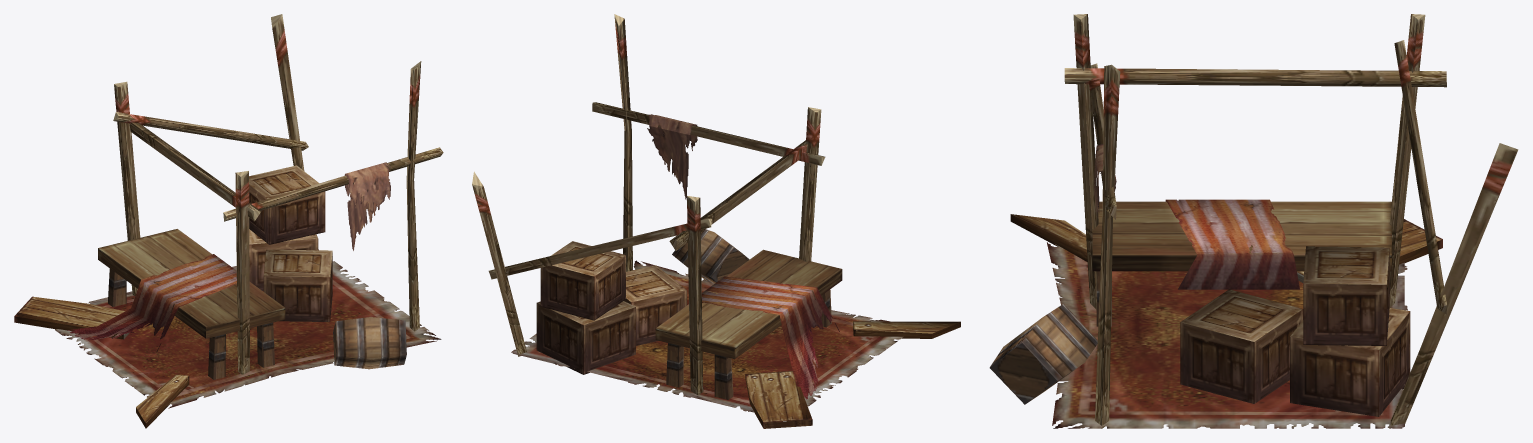
The model's file is Gobi_Stall02.FBX.
The picture shows the model from 3 angles, left to right: view 1: azimuth 30°, elevation 25°; view 2: azimuth 150°, elevation 25°; view 3: azimuth 270°, elevation 25°; orthographic projection. The views are drawn at different scales.
Parts seen in each view (by area): view 1: Gobi_Stall02; view 2: Gobi_Stall02; view 3: Gobi_Stall02.
Boxes of the visible parts, x1,y1,x2,y2 form: Gobi_Stall02: (14,14,443,428); Gobi_Stall02: (472,14,960,428); Gobi_Stall02: (989,14,1518,428).
Bounding box in the file's own units: 370 × 290 × 368.
